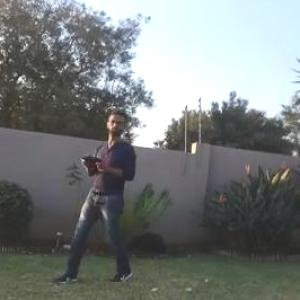follow: (44, 100, 133, 288)
